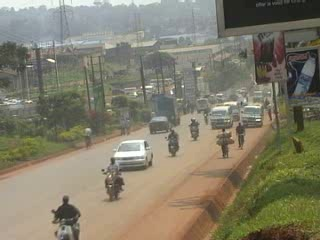Car: (110, 137, 156, 172), (146, 114, 174, 135)
Motorcycle: (49, 206, 81, 239), (100, 167, 125, 200), (163, 134, 179, 157), (188, 121, 202, 142)
